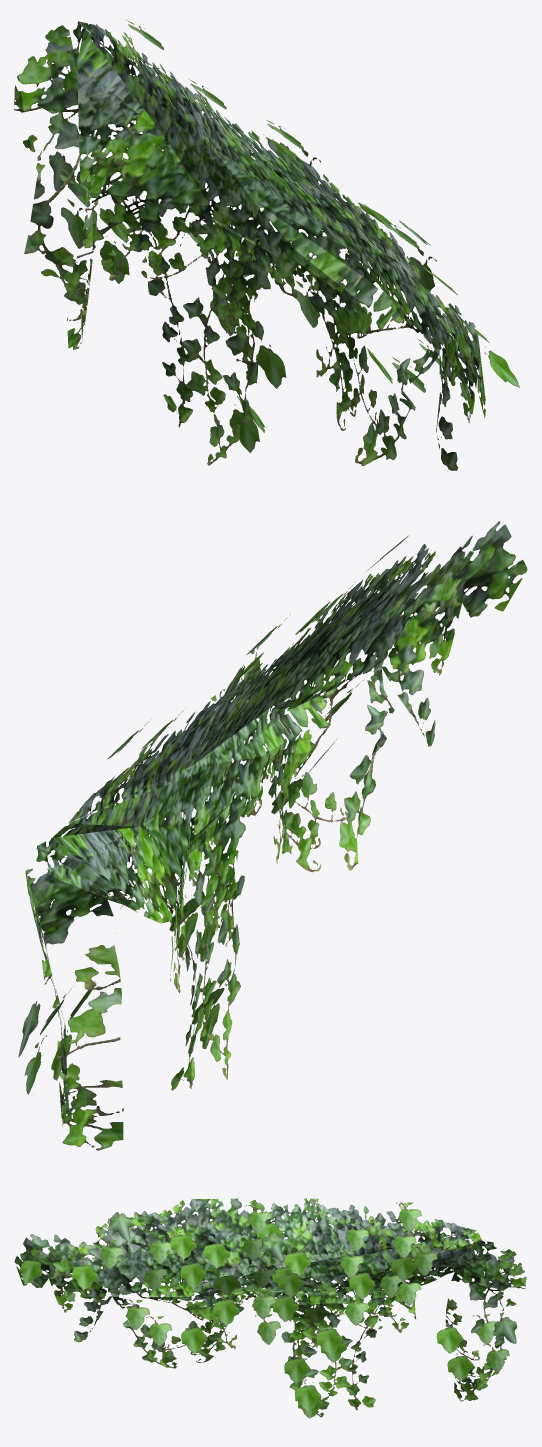
File: popinavka_kupa.glb
The picture shows the model from 3 angles, top to bottom: view 1: azimuth 30°, elevation 25°; view 2: azimuth 150°, elevation 25°; view 3: azimuth 270°, elevation 25°; orthographic projection. The views are drawn at different scales.
Parts seen in each view (by area): view 1: popinavka_kupa; view 2: popinavka_kupa; view 3: popinavka_kupa.
Part boxes in pixels (x1,y1,x2,y2): popinavka_kupa: (14,20,520,470); popinavka_kupa: (18,521,527,1150); popinavka_kupa: (14,1198,526,1418).
Size of the model in its own units: 0.3499 by 1.19 by 2.42.
Materials: 1 (1 with a texture image).
